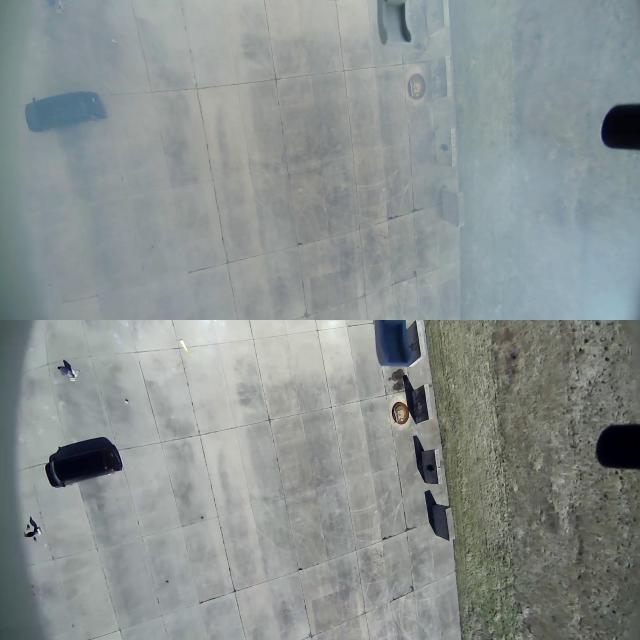car: (15, 84, 124, 142), (32, 443, 133, 493)
